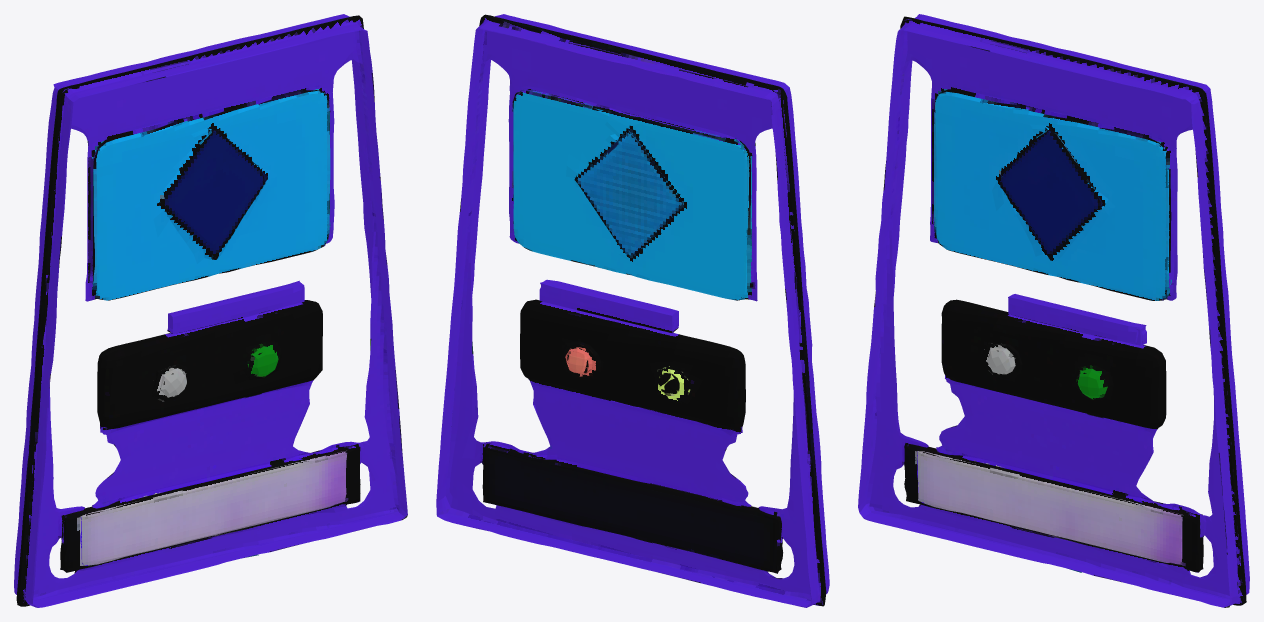
Rendered from Arcade_RuneSwipe_QuadRetro.glb.
The picture shows the model from 3 angles, left to right: view 1: azimuth 30°, elevation 25°; view 2: azimuth 150°, elevation 25°; view 3: azimuth 330°, elevation 25°; orthographic projection.
Visible parts, largest first — view 1: Arcade_RuneSwipe_QuadRemesh; view 2: Arcade_RuneSwipe_QuadRemesh; view 3: Arcade_RuneSwipe_QuadRemesh.
Boxes of the visible parts, box(x1,y1,x2,y2) form: Arcade_RuneSwipe_QuadRemesh: box(14, 14, 407, 607); Arcade_RuneSwipe_QuadRemesh: box(436, 14, 829, 607); Arcade_RuneSwipe_QuadRemesh: box(858, 14, 1249, 607).
Bounding box in the file's own units: 1.58 × 2 × 0.1653.
Materials: 1 (1 with a texture image).
